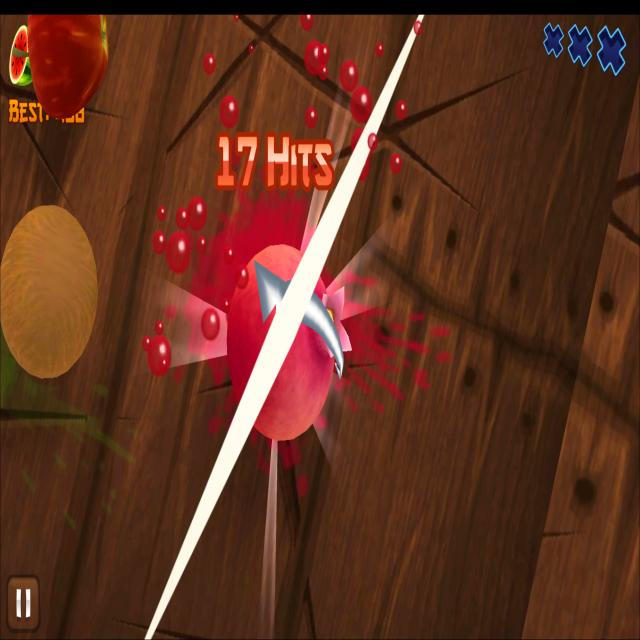fruit: (228, 243, 336, 441), (0, 204, 98, 380), (28, 15, 108, 119)
